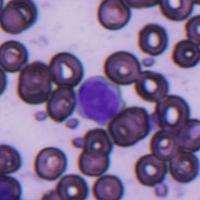L: (76, 76, 123, 125)
